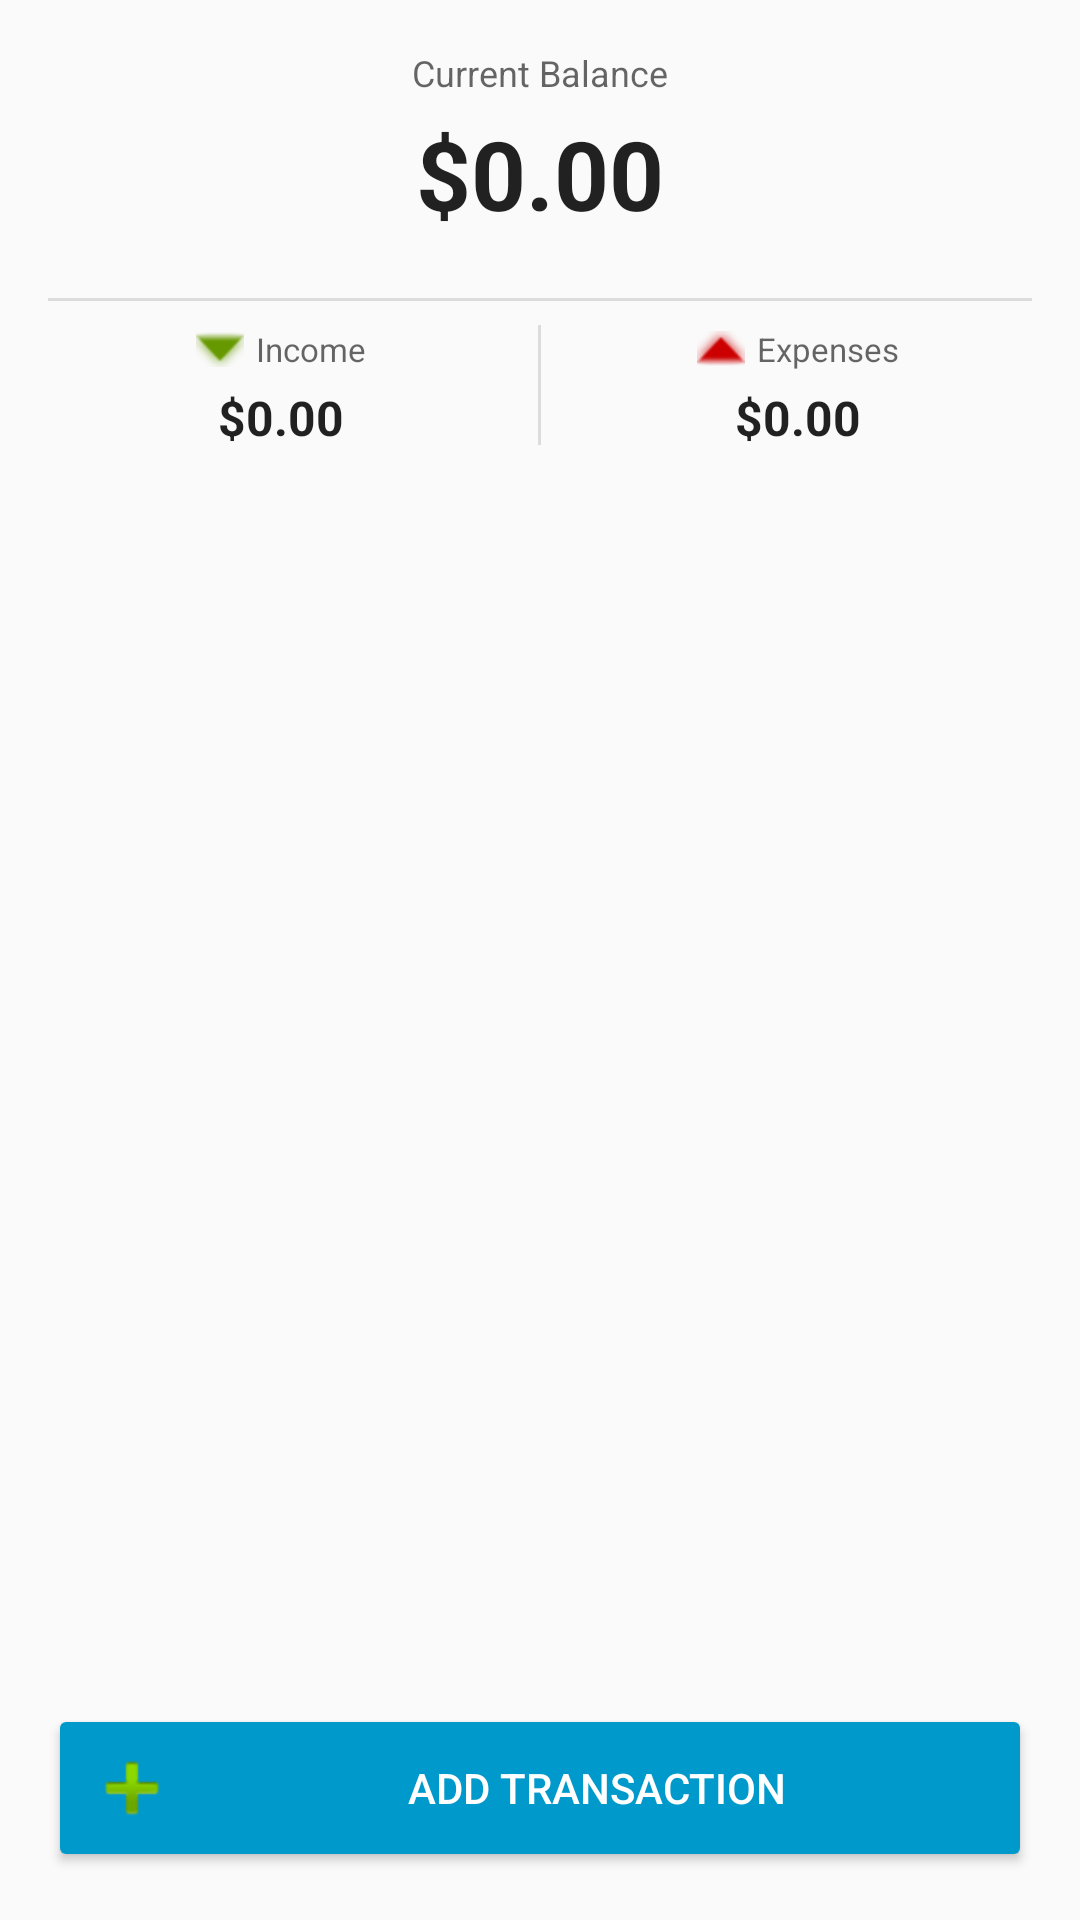

Locate icon controls on the screen. Image size 1080 × 1920, boxes as (x1, y1, x2, y2).
arrow down float: (196, 333, 244, 366)
arrow up float: (697, 332, 745, 365)
